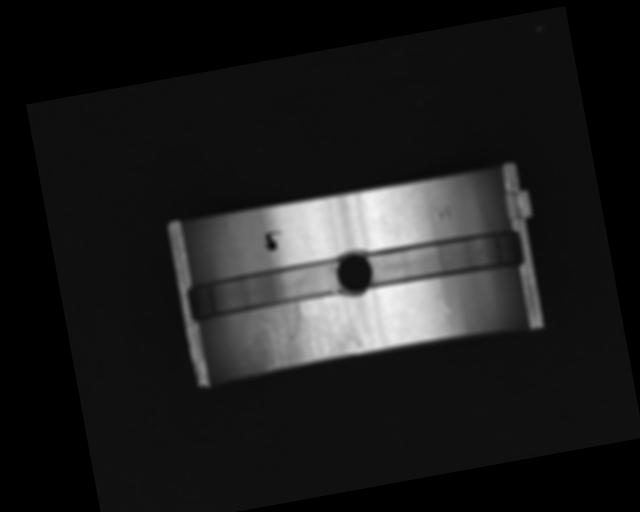blot: (261, 229, 283, 252)
bruise: (435, 204, 453, 220)
gap: (364, 226, 525, 290), (187, 257, 348, 321)
hole: (331, 247, 374, 300)
nick: (426, 277, 450, 318)
scratch: (251, 293, 363, 371)
